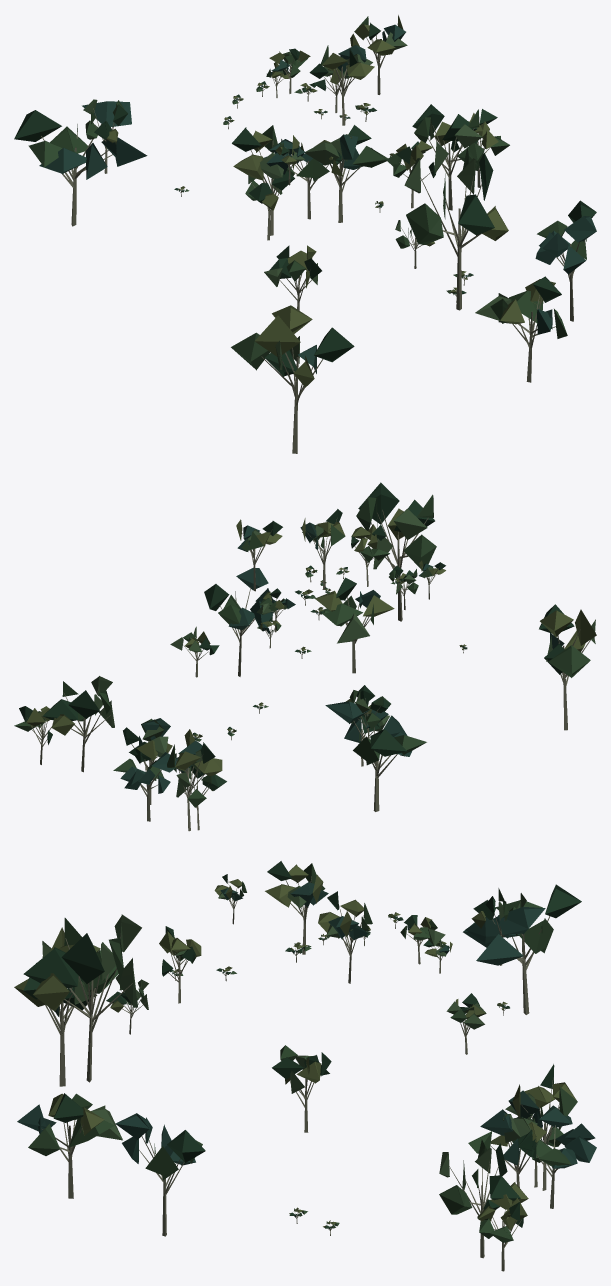
The model's file is forest_19_20.dae.
The picture shows the model from 3 angles, top to bottom: view 1: azimuth 30°, elevation 25°; view 2: azimuth 150°, elevation 25°; view 3: azimuth 270°, elevation 25°; orthographic projection. The views are drawn at different scales.
Visible parts, largest first — view 1: Node; view 2: Node; view 3: Node.
Boxes of the visible parts, left/top/right/bottom form: Node: left=14, top=15, right=596, bottom=453; Node: left=14, top=482, right=596, bottom=831; Node: left=14, top=861, right=596, bottom=1271.
Bounding box in the file's own units: 11.42 × 11.64 × 6.77.
